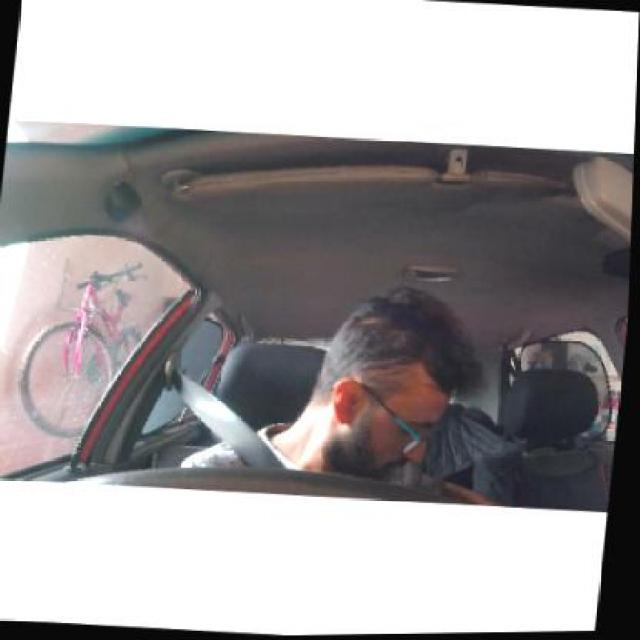drowsy: (322, 301, 459, 477)
